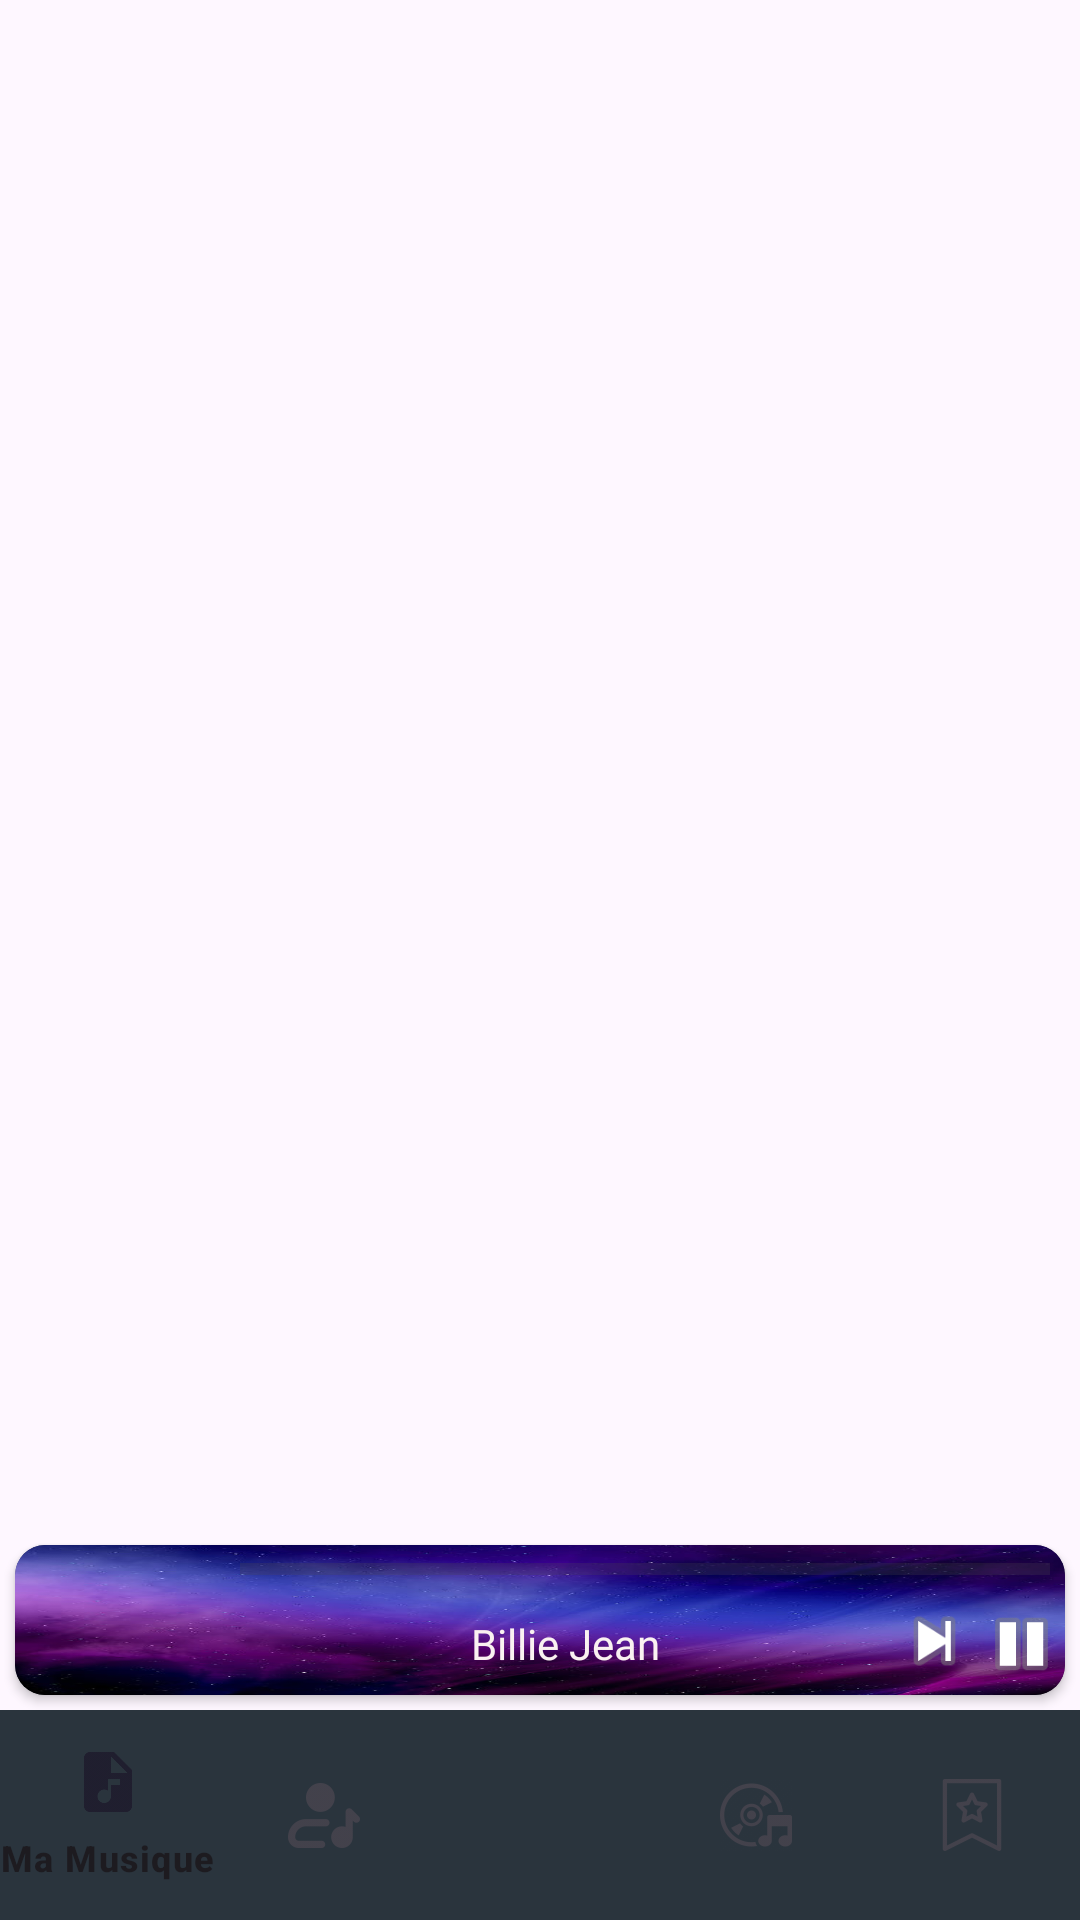

Screen size 1080 x 1920. Icon name, then its center in pixels as (x,y):
next: (934,1641)
pause: (1021,1644)
